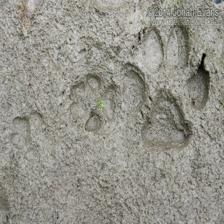coyote: (116, 21, 208, 158)
